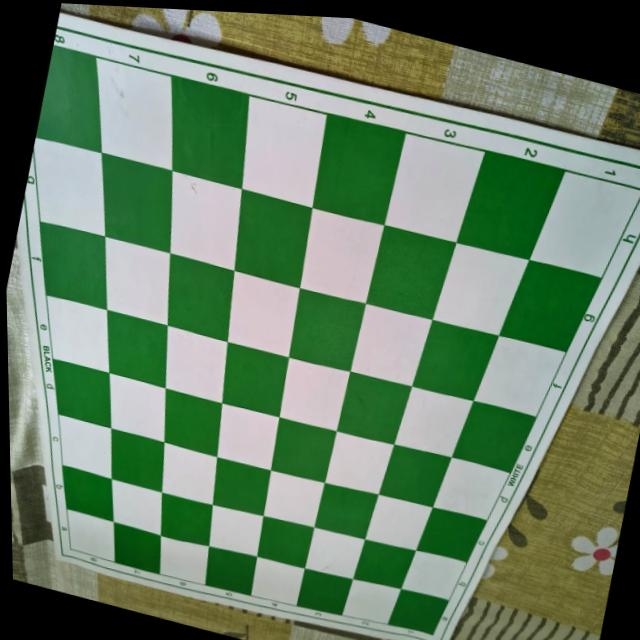square: (456, 148, 567, 268), (76, 52, 189, 168), (531, 164, 640, 282), (381, 127, 487, 246), (151, 72, 258, 188), (306, 109, 408, 227), (229, 92, 330, 206), (77, 152, 183, 254), (499, 257, 603, 359), (433, 237, 532, 340), (152, 169, 249, 271), (19, 137, 118, 236), (220, 188, 315, 289), (363, 223, 458, 322), (33, 42, 114, 154), (295, 209, 384, 306), (22, 219, 117, 309), (410, 316, 502, 408), (87, 236, 180, 326), (149, 252, 239, 343), (476, 331, 567, 421), (345, 300, 432, 389), (217, 267, 303, 356), (452, 395, 539, 479), (91, 305, 176, 389), (285, 285, 365, 372), (150, 324, 234, 405), (34, 295, 118, 375), (395, 383, 477, 464), (332, 369, 412, 448), (213, 342, 291, 420), (276, 354, 351, 432), (377, 437, 453, 512), (434, 453, 511, 527), (97, 370, 174, 443), (40, 358, 118, 430), (151, 386, 226, 458), (322, 429, 396, 501), (265, 417, 337, 486), (209, 399, 281, 468), (47, 413, 122, 479), (416, 501, 488, 568), (362, 489, 434, 556), (99, 428, 171, 494), (312, 478, 378, 544), (154, 442, 222, 506), (205, 458, 272, 521), (401, 543, 467, 606), (102, 477, 170, 536), (53, 464, 122, 522), (261, 468, 325, 529), (351, 536, 414, 595), (152, 491, 217, 548), (303, 525, 366, 583), (104, 520, 168, 575), (203, 503, 265, 559), (386, 585, 449, 640), (58, 508, 122, 562), (254, 515, 313, 571), (341, 575, 401, 629), (152, 532, 213, 585), (200, 543, 259, 597), (296, 566, 353, 621), (249, 555, 305, 608)
